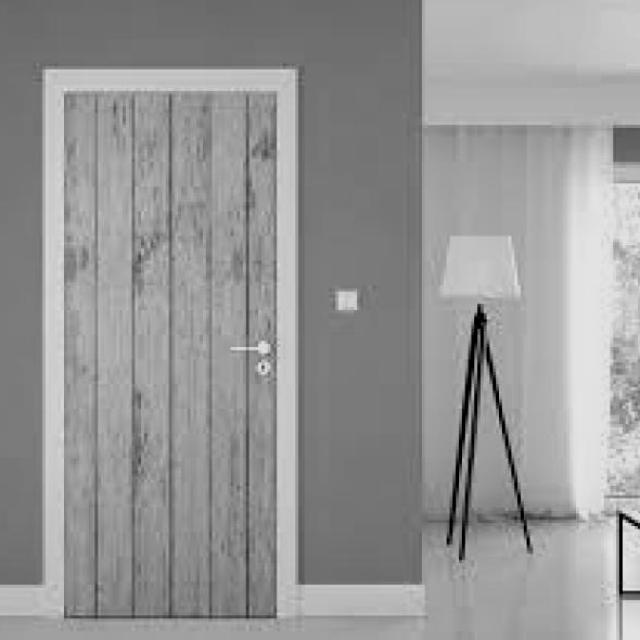door: (60, 74, 281, 619)
